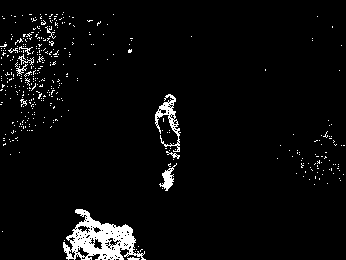person: (152, 90, 186, 192)
